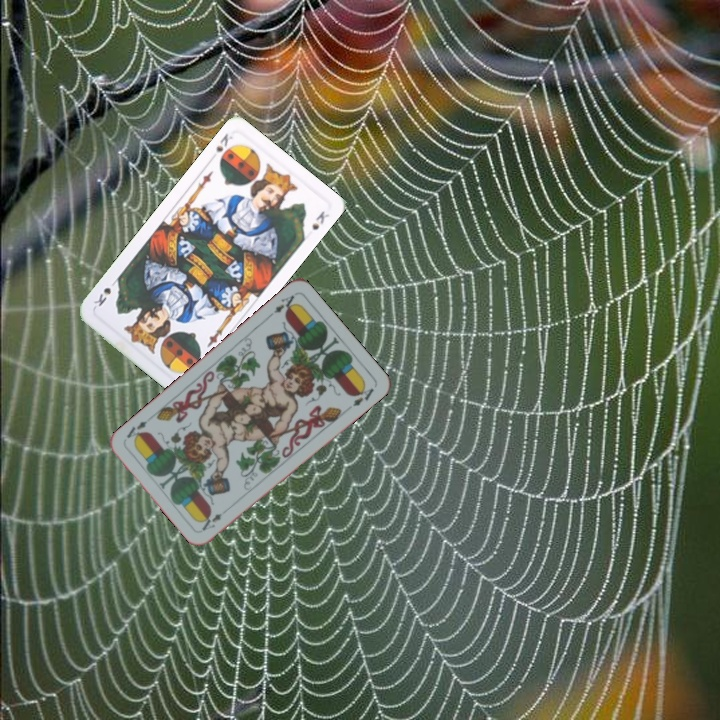EA: (198, 503, 232, 534), (264, 291, 299, 320)
SK: (211, 129, 235, 156)
